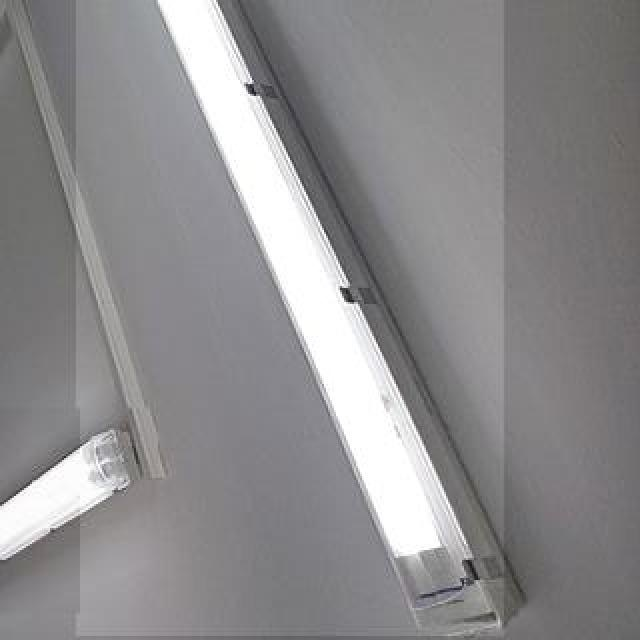fluorescent tube: (68, 0, 504, 628), (0, 342, 170, 630), (0, 0, 10, 208)
